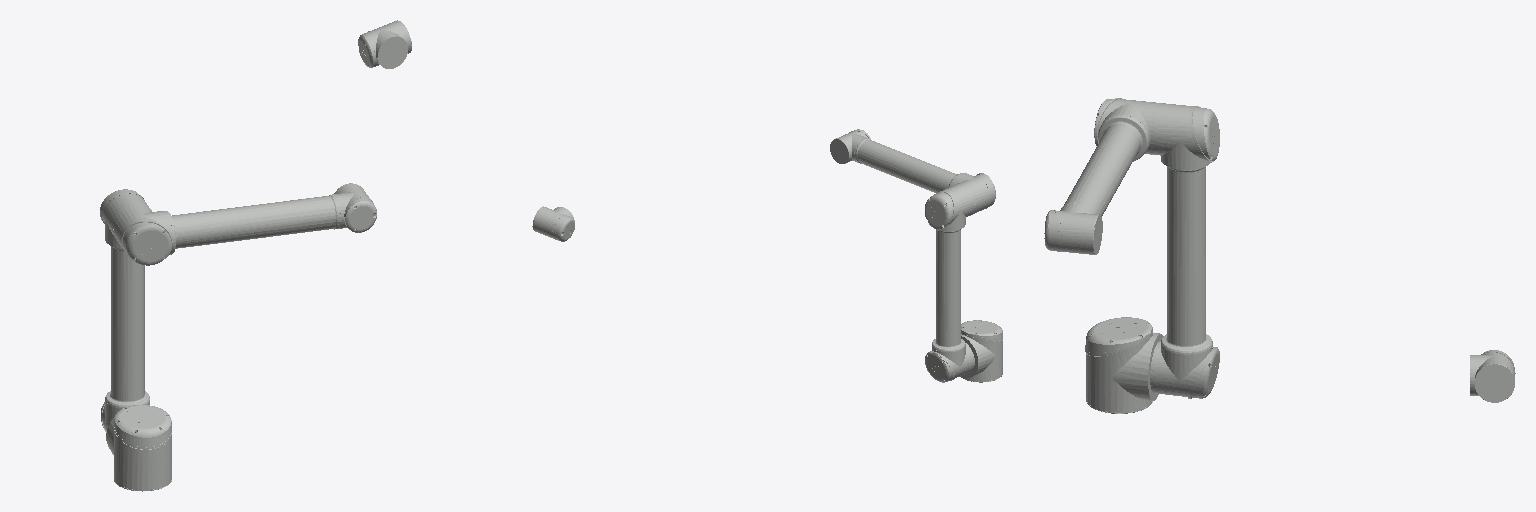
robot.urdf — logic_urdf:
<?xml version="1.0" encoding="utf-8"?>
<!-- This URDF was automatically created by SolidWorks to URDF Exporter! Originally created by [author] ([email redacted]) 
     Commit Version: 1.6.0-4-g7f85cfe  Build Version: 1.6.7995.38578
     For more information, please see http://wiki.ros.org/sw_urdf_exporter -->
<robot
  name="logic_urdf">
  <link
    name="base_link">
    <inertial>
      <origin
        xyz="0.00047472 6.9315E-06 0.018436"
        rpy="0 0 0" />
      <mass
        value="0.70951" />
      <inertia
        ixx="0.0011478"
        ixy="-4.6822E-08"
        ixz="-2.9441E-07"
        iyy="0.0011755"
        iyz="7.868E-08"
        izz="0.0021505" />
    </inertial>
    <visual>
      <origin
        xyz="0 0 0"
        rpy="0 0 0" />
      <geometry>
        <mesh
          filename="package://logic_urdf/meshes/base_link.STL" />
      </geometry>
      <material
        name="">
        <color
          rgba="0.75686 0.76863 0.75294 1" />
      </material>
    </visual>
    <collision>
      <origin
        xyz="0 0 0"
        rpy="0 0 0" />
      <geometry>
        <mesh
          filename="package://logic_urdf/meshes/base_link.STL" />
      </geometry>
    </collision>
  </link>
  <link
    name="Link_1">
    <inertial>
      <origin
        xyz="0.0023542 0.0085726 0.12447"
        rpy="0 0 0" />
      <mass
        value="3.4311" />
      <inertia
        ixx="0.011117"
        ixy="-0.0001688"
        ixz="-0.0002995"
        iyy="0.010549"
        iyz="-0.0010909"
        izz="0.010872" />
    </inertial>
    <visual>
      <origin
        xyz="0 0 0"
        rpy="0 0 0" />
      <geometry>
        <mesh
          filename="package://logic_urdf/meshes/Link_1.STL" />
      </geometry>
      <material
        name="">
        <color
          rgba="0.75686 0.76863 0.75294 1" />
      </material>
    </visual>
    <collision>
      <origin
        xyz="0 0 0"
        rpy="0 0 0" />
      <geometry>
        <mesh
          filename="package://logic_urdf/meshes/Link_1.STL" />
      </geometry>
    </collision>
  </link>
  <joint
    name="joint_1"
    type="revolute">
    <origin
      xyz="0 0 0"
      rpy="0 0 0" />
    <parent
      link="base_link" />
    <child
      link="Link_1" />
    <axis
      xyz="0 0 1" />
    <limit
      lower="0"
      upper="3.142"
      effort="300"
      velocity="3" />
  </joint>
  <link
    name="Link_2">
    <inertial>
      <origin
        xyz="2.6374E-05 0.28803 0.064081"
        rpy="0 0 0" />
      <mass
        value="5.766" />
      <inertia
        ixx="0.053593"
        ixy="-1.3385E-05"
        ixz="4.9362E-06"
        iyy="0.0077952"
        iyz="2.3286E-07"
        izz="0.053877" />
    </inertial>
    <visual>
      <origin
        xyz="0 0 0"
        rpy="0 0 0" />
      <geometry>
        <mesh
          filename="package://logic_urdf/meshes/Link_2.STL" />
      </geometry>
      <material
        name="">
        <color
          rgba="0.75686 0.76863 0.75294 1" />
      </material>
    </visual>
    <collision>
      <origin
        xyz="0 0 0"
        rpy="0 0 0" />
      <geometry>
        <mesh
          filename="package://logic_urdf/meshes/Link_2.STL" />
      </geometry>
    </collision>
  </link>
  <joint
    name="joint_2"
    type="revolute">
    <origin
      xyz="0.0573482780233897 0.208897776409476 0.130478612153435"
      rpy="1.5707963267949 0 -0.26792729552756" />
    <parent
      link="Link_1" />
    <child
      link="Link_2" />
    <axis
      xyz="0 0 -1" />
    <limit
      lower="-1.57"
      upper="1.57"
      effort="200"
      velocity="3" />
  </joint>
  <link
    name="Link_3">
    <inertial>
      <origin
        xyz="0.24625690700553 0.000387915105908299 -0.0649023731311412"
        rpy="0 0 0" />
      <mass
        value="4.97837026325909" />
      <inertia
        ixx="0.00585035770850532"
        ixy="6.63685228053669E-09"
        ixz="-0.000200012242224391"
        iyy="0.051561915293179"
        iyz="-1.52612804186033E-08"
        izz="0.0517818287178346" />
    </inertial>
    <visual>
      <origin
        xyz="0 0 0"
        rpy="0 0 0" />
      <geometry>
        <mesh
          filename="package://logic_urdf/meshes/Link_3.STL" />
      </geometry>
      <material
        name="">
        <color
          rgba="0.756862745098039 0.768627450980392 0.752941176470588 1" />
      </material>
    </visual>
    <collision>
      <origin
        xyz="0 0 0"
        rpy="0 0 0" />
      <geometry>
        <mesh
          filename="package://logic_urdf/meshes/Link_3.STL" />
      </geometry>
    </collision>
  </link>
  <joint
    name="joint_3"
    type="revolute">
    <origin
      xyz="0.0130528773762752 0.581033387846565 0.254748304369017"
      rpy="0 0.0347928578488272 0" />
    <parent
      link="Link_2" />
    <child
      link="Link_3" />
    <axis
      xyz="0 0 -1" />
    <limit
      lower="-1.57"
      upper="1.57"
      effort="200"
      velocity="3" />
  </joint>
  <link
    name="Link_4">
    <inertial>
      <origin
        xyz="0.038757 0.0032123 -0.16106"
        rpy="0 0 0" />
      <mass
        value="0.83842" />
      <inertia
        ixx="0.0010339"
        ixy="-3.0338E-05"
        ixz="1.6348E-05"
        iyy="0.0009644"
        iyz="0.00012774"
        izz="0.00096895" />
    </inertial>
    <visual>
      <origin
        xyz="0 0 0"
        rpy="0 0 0" />
      <geometry>
        <mesh
          filename="package://logic_urdf/meshes/Link_4.STL" />
      </geometry>
      <material
        name="">
        <color
          rgba="0.75686 0.76863 0.75294 1" />
      </material>
    </visual>
    <collision>
      <origin
        xyz="0 0 0"
        rpy="0 0 0" />
      <geometry>
        <mesh
          filename="package://logic_urdf/meshes/Link_4.STL" />
      </geometry>
    </collision>
  </link>
  <joint
    name="joint_4"
    type="revolute">
    <origin
      xyz="0.56474 0.000388 -0.0090716"
      rpy="0 0.23313 0" />
    <parent
      link="Link_3" />
    <child
      link="Link_4" />
    <axis
      xyz="-0.23103 0 0.97295" />
    <limit
      lower="-1.57"
      upper="1.57"
      effort="200"
      velocity="3" />
  </joint>
  <link
    name="Link_5">
    <inertial>
      <origin
        xyz="0.00340385985301095 0.000485245565873177 0.165853929608396"
        rpy="0 0 0" />
      <mass
        value="0.838415772574633" />
      <inertia
        ixx="0.00096591824106628"
        ixy="1.04503232632636E-05"
        ixz="-0.000129924206136089"
        iyy="0.00103628698163325"
        iyz="1.88987381158496E-05"
        izz="0.000965067812306471" />
    </inertial>
    <visual>
      <origin
        xyz="0 0 0"
        rpy="0 0 0" />
      <geometry>
        <mesh
          filename="package://logic_urdf/meshes/Link_5.STL" />
      </geometry>
      <material
        name="">
        <color
          rgba="0.756862745098039 0.768627450980392 0.752941176470588 1" />
      </material>
    </visual>
    <collision>
      <origin
        xyz="0 0 0"
        rpy="0 0 0" />
      <geometry>
        <mesh
          filename="package://logic_urdf/meshes/Link_5.STL" />
      </geometry>
    </collision>
  </link>
  <joint
    name="joint_5"
    type="revolute">
    <origin
      xyz="0.039855 -0.05588 -0.16569"
      rpy="-1.5708 0 0" />
    <parent
      link="Link_4" />
    <child
      link="Link_5" />
    <axis
      xyz="0 0 -1" />
    <limit
      lower="-1.57"
      upper="1.57"
      effort="100"
      velocity="2" />
  </joint>
  <link
    name="Link_6">
    <inertial>
      <origin
        xyz="0.00017986 -4.4952E-05 -0.13062"
        rpy="0 0 0" />
      <mass
        value="0.15932" />
      <inertia
        ixx="8.2239E-05"
        ixy="1.0723E-06"
        ixz="8.7279E-08"
        iyy="8.7571E-05"
        iyz="4.5096E-07"
        izz="0.00014976" />
    </inertial>
    <visual>
      <origin
        xyz="0 0 0"
        rpy="0 0 0" />
      <geometry>
        <mesh
          filename="package://logic_urdf/meshes/Link_6.STL" />
      </geometry>
      <material
        name="">
        <color
          rgba="0.75686 0.76863 0.75294 1" />
      </material>
    </visual>
    <collision>
      <origin
        xyz="0 0 0"
        rpy="0 0 0" />
      <geometry>
        <mesh
          filename="package://logic_urdf/meshes/Link_6.STL" />
      </geometry>
    </collision>
  </link>
  <joint
    name="joint_6"
    type="revolute">
    <origin
      xyz="-0.055073 0.0089909 0.17061"
      rpy="-1.5708 0 1.4264" />
    <parent
      link="Link_5" />
    <child
      link="Link_6" />
    <axis
      xyz="0 0 1" />
    <limit
      lower="0"
      upper="3.142"
      effort="50"
      velocity="2" />
  </joint>
</robot>

--- Render facts (derived) ---
3 views of the same robot in one strip: view 1: azimuth 30°, elevation 25°; view 2: azimuth 150°, elevation 25°; view 3: azimuth 270°, elevation 25° (orthographic).
Robot: logic_urdf — 7 links, 6 joints (6 revolute); root link base_link; default pose: all joints at 0.
Visible links, largest first — view 1: Link_3, Link_2, Link_1, Link_5; view 2: Link_2, Link_3, Link_1, Link_5; view 3: Link_2, Link_3, Link_1, Link_5.
Link boxes in pixels (x1,y1,x2,y2): Link_3: (113,183,376,265); Link_2: (100,189,151,432); Link_1: (106,405,171,491); Link_5: (358,20,411,68); Link_2: (925,184,974,382); Link_3: (830,129,995,215); Link_1: (960,320,1002,382); Link_5: (532,206,574,241); Link_2: (1150,103,1219,398); Link_3: (1044,98,1157,254); Link_1: (1085,317,1163,413); Link_5: (1470,350,1515,402).
Size in the robot's own frame: 1.33 by 1.04 by 0.734 metres.
Meshes: 7 distinct files referenced, 4 mesh visuals loaded (4 binary STL); not drawn: 3 (reference not matched to a file when rendering).